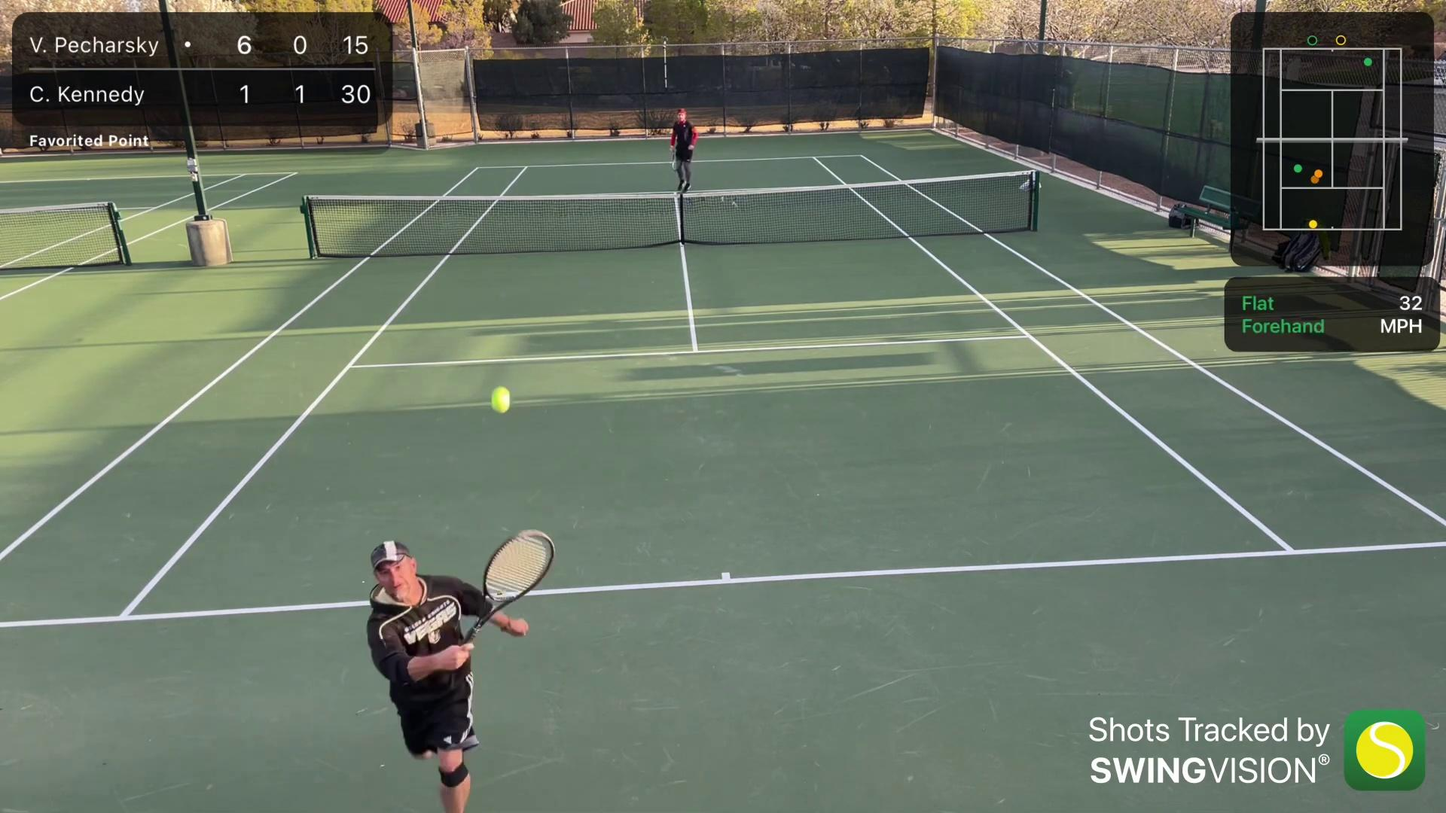ball: (479, 378, 520, 420)
